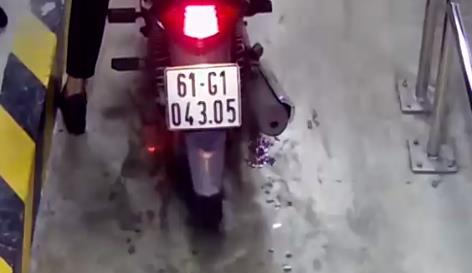lisence: (164, 63, 242, 131)
